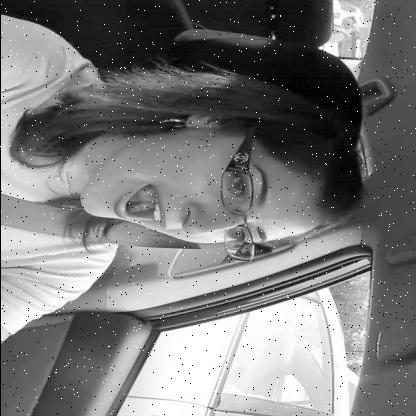seatbelt: (0, 84, 371, 265)
